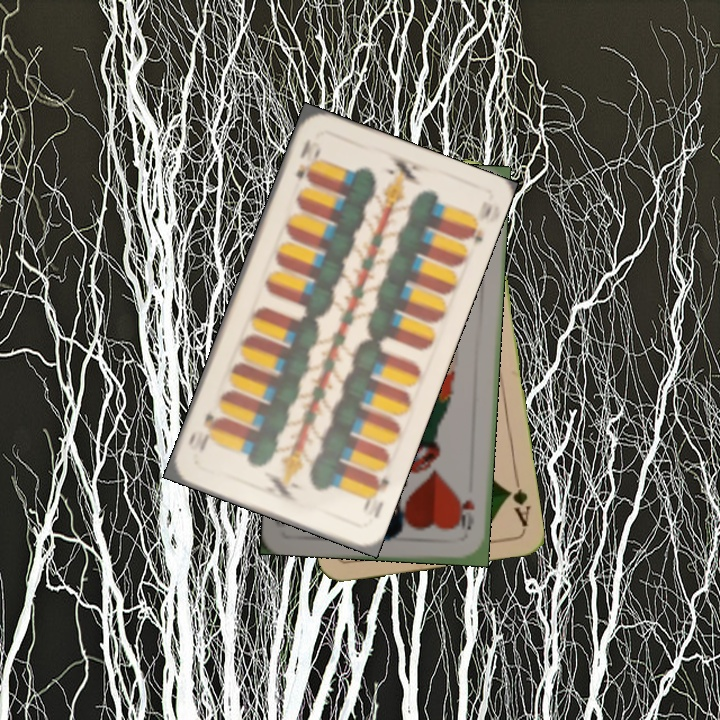E10: (291, 135, 324, 185), (359, 471, 392, 514)
GA: (502, 470, 533, 529)
HO: (455, 496, 477, 536)
